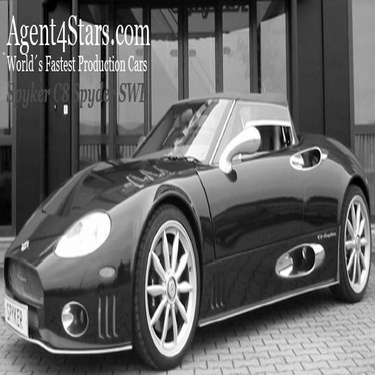car: (5, 89, 373, 371)
